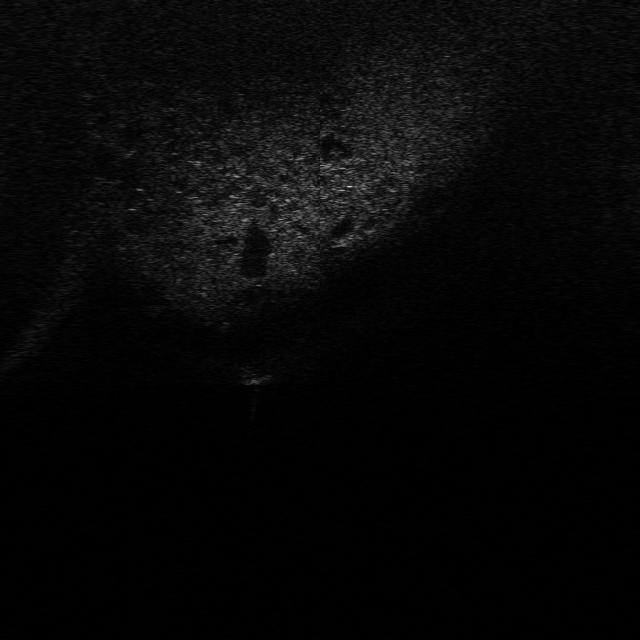cube: (234, 360, 277, 389)
